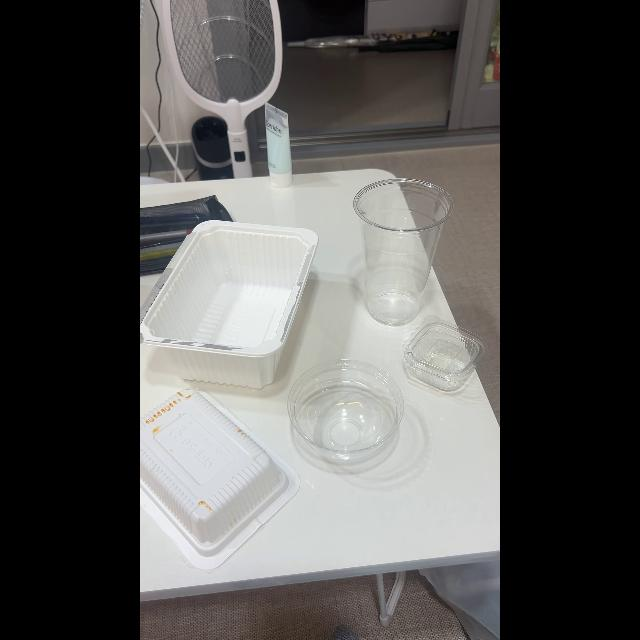clean: (140, 222, 318, 382), (354, 178, 454, 324), (288, 359, 404, 459), (404, 319, 486, 387)
dirty: (140, 388, 286, 548)
